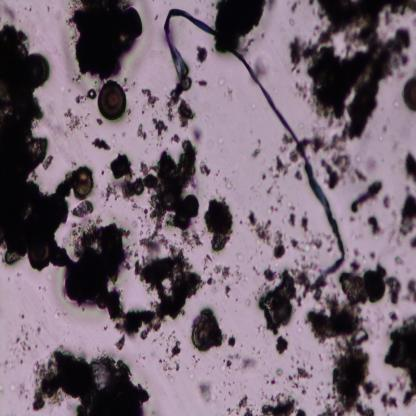Air bubble: (70, 168, 94, 196)
Background material: (0, 25, 72, 272), (283, 0, 416, 133), (63, 223, 202, 338), (29, 342, 151, 415), (134, 140, 204, 247), (66, 0, 144, 81), (320, 331, 377, 415), (310, 132, 368, 190), (255, 266, 300, 335), (302, 296, 369, 340), (387, 309, 416, 409), (214, 0, 267, 54), (5, 314, 44, 370), (247, 208, 288, 260), (104, 152, 144, 204), (202, 195, 236, 252), (340, 262, 386, 303), (258, 156, 290, 195), (258, 390, 306, 415), (397, 185, 416, 248), (350, 180, 382, 216), (287, 233, 328, 258), (202, 253, 231, 287), (161, 332, 183, 372), (288, 363, 314, 394), (63, 107, 90, 135), (220, 352, 257, 372), (175, 99, 196, 130), (214, 76, 235, 104), (71, 197, 95, 219), (381, 381, 399, 410), (386, 276, 402, 307), (254, 54, 270, 81), (367, 214, 384, 239), (141, 87, 161, 108), (198, 382, 217, 403), (236, 394, 255, 415), (404, 151, 416, 184), (150, 116, 169, 136), (91, 136, 112, 152), (233, 265, 248, 286), (1, 4, 18, 22), (275, 336, 290, 356), (195, 45, 210, 65), (287, 204, 299, 228), (278, 135, 294, 153), (403, 282, 416, 303), (36, 282, 51, 300), (300, 212, 311, 233), (287, 148, 300, 164), (198, 161, 211, 177), (265, 370, 276, 388), (74, 92, 88, 106), (191, 126, 203, 142), (393, 253, 405, 268), (42, 155, 54, 170), (115, 334, 126, 350), (136, 124, 147, 139), (381, 194, 391, 210), (197, 78, 209, 89), (293, 169, 303, 182), (250, 147, 260, 159), (227, 336, 237, 346), (89, 88, 98, 99), (224, 285, 231, 299), (275, 370, 284, 378), (245, 300, 252, 308), (193, 354, 198, 365)
Cotton: (162, 7, 346, 274)
Diatom: (191, 306, 222, 352), (98, 81, 126, 122), (27, 52, 50, 89), (28, 242, 50, 268), (402, 75, 416, 112)
